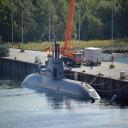submarine: (21, 58, 102, 100)
